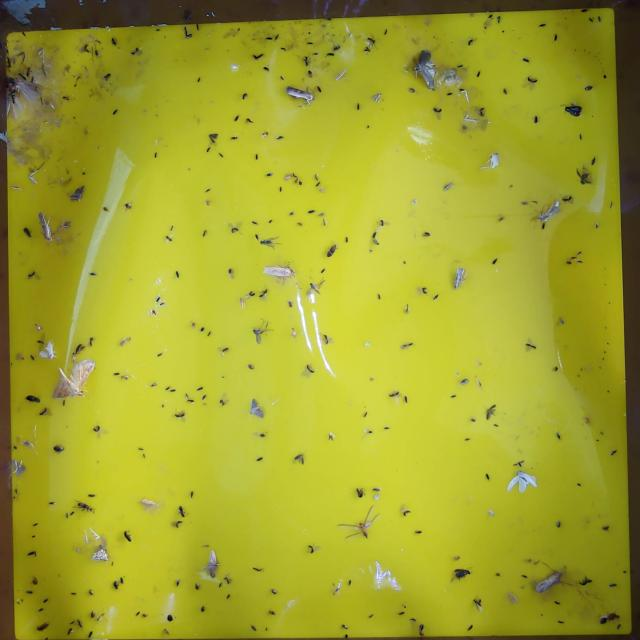Amblypsylopus sp: (245, 320, 277, 345), (255, 234, 288, 255)
Cofana spectra: (504, 467, 542, 496), (479, 148, 505, 174), (35, 339, 58, 359)
Metoeca foedalis: (87, 540, 113, 567)
Monocrepidius sp: (32, 620, 54, 634), (323, 242, 340, 260)
Ostrinia sp atau Crocidophora sp: (49, 359, 99, 400), (412, 48, 440, 88), (530, 197, 561, 229), (256, 262, 298, 284), (447, 260, 471, 296)
Paederus fuscipes: (72, 500, 95, 513)
Pilonthus sp: (116, 526, 140, 545), (574, 574, 595, 588)
Pyralidae -kalau kecil-: (532, 559, 569, 597), (34, 206, 56, 246)
Termitidae: (336, 501, 381, 546)
